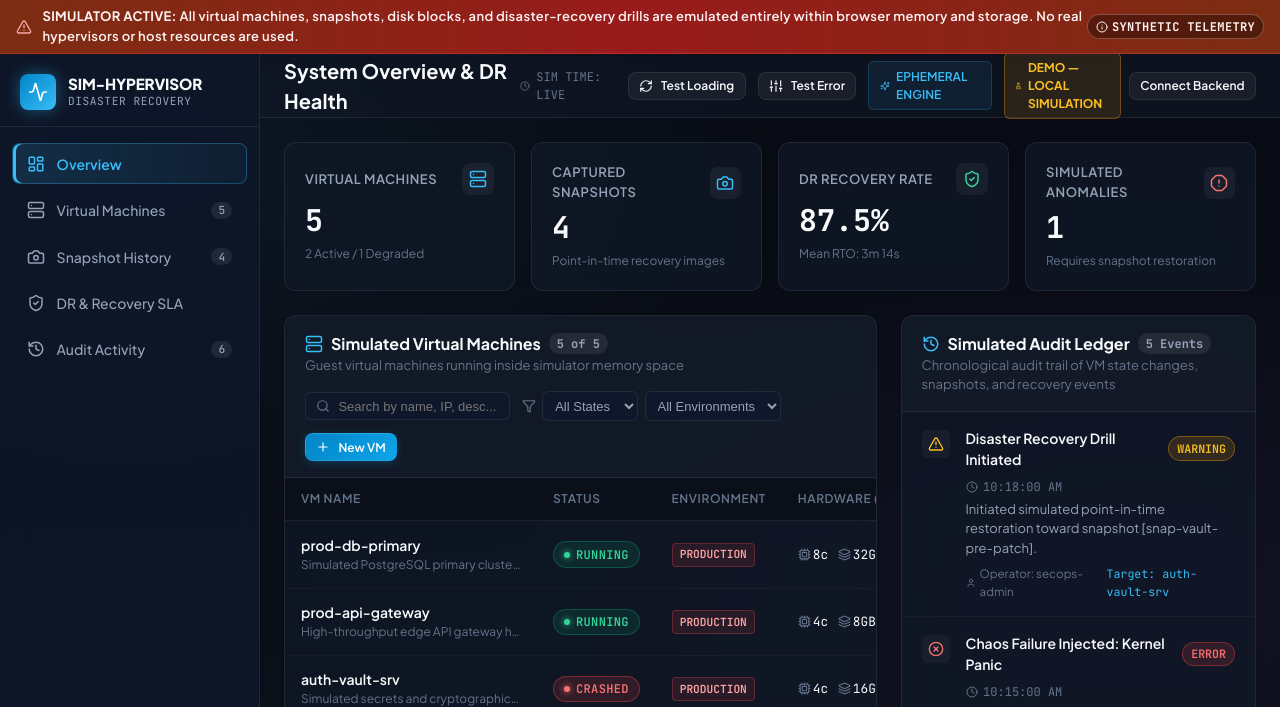
App Dashboard Shell & Navigation › navigates to Virtual Machines view when clicking sidebar nav link
Click the button with test id "nav-vms" at (130, 210), box [12,190,247,231]
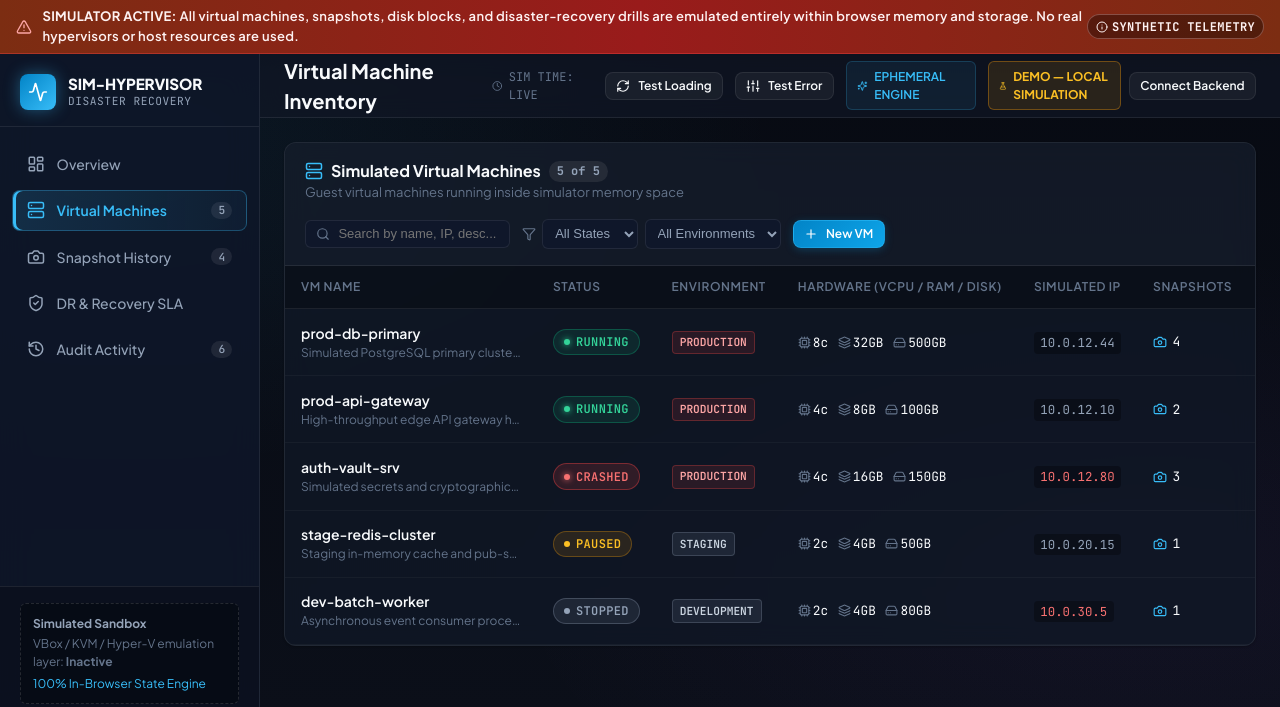
Expected: the element with test id "vm-inventory-section" is shown, [284,142,1256,646]
Expected: the heading "Virtual Machine Inventory" is shown, [284,58,434,113]
